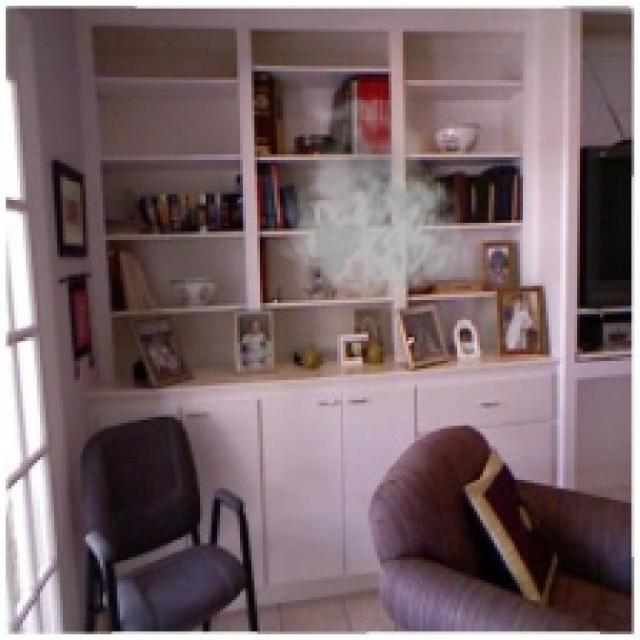Smoke: (272, 80, 474, 306)
